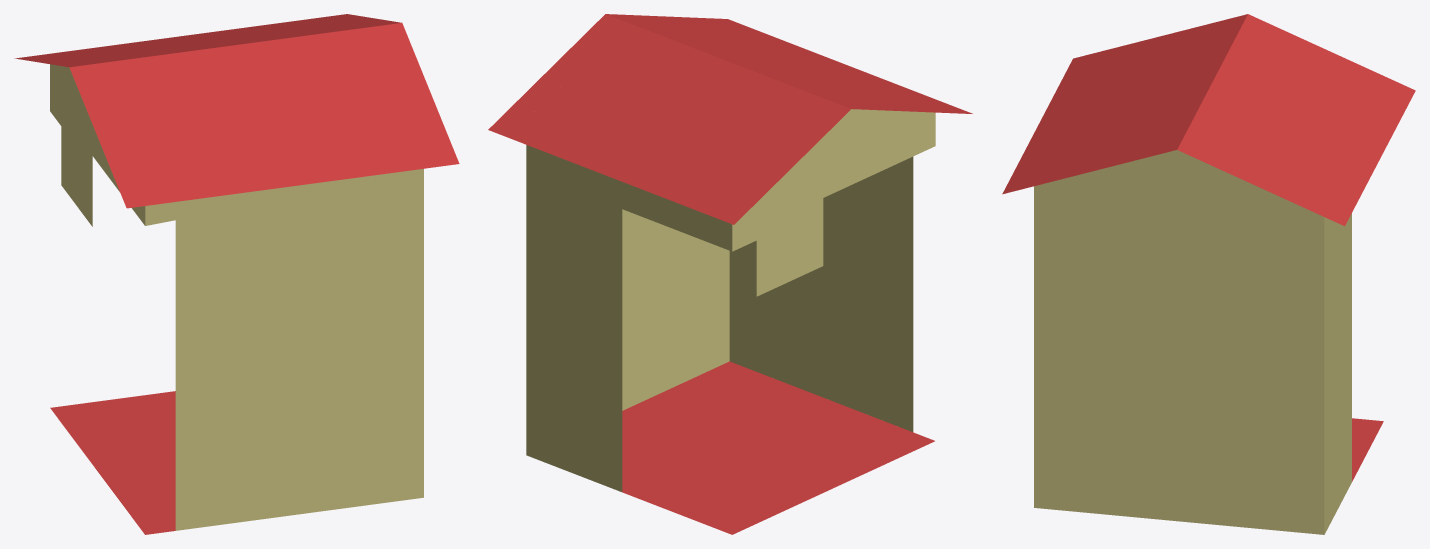
3 views of the same model, side by side, from view 1: azimuth 30°, elevation 25°; view 2: azimuth 150°, elevation 25°; view 3: azimuth 270°, elevation 25° (orthographic). The views are drawn at different scales.
Visible parts, largest first — view 1: group_5, group_3, group_6, group_4; view 2: group_5, group_3, group_6, group_4; view 3: group_5, group_3, group_4, group_6.
Boxes of the visible parts, x1,y1,x2,y2 form: group_5: (50, 64, 423, 530); group_3: (14, 14, 459, 208); group_6: (50, 391, 175, 534); group_4: (70, 14, 402, 78); group_5: (526, 109, 935, 491); group_3: (489, 14, 972, 224); group_6: (622, 361, 934, 534); group_4: (488, 14, 850, 169); group_5: (1034, 150, 1351, 534); group_3: (1002, 14, 1415, 225); group_4: (1117, 14, 1361, 226); group_6: (1352, 418, 1383, 481).
Bounding box in the file's own units: 11.12 × 11.58 × 11.83.
